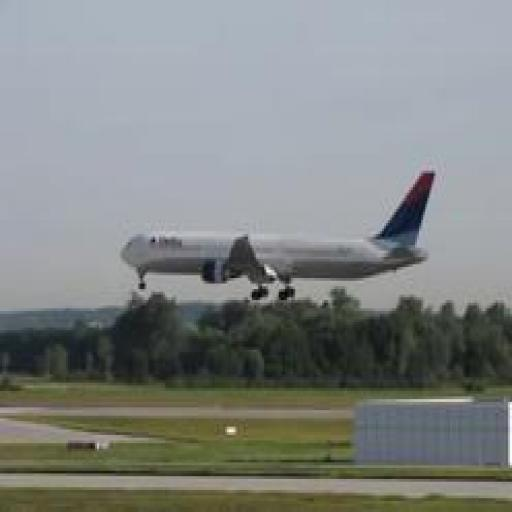aircraft: (118, 169, 437, 300)
